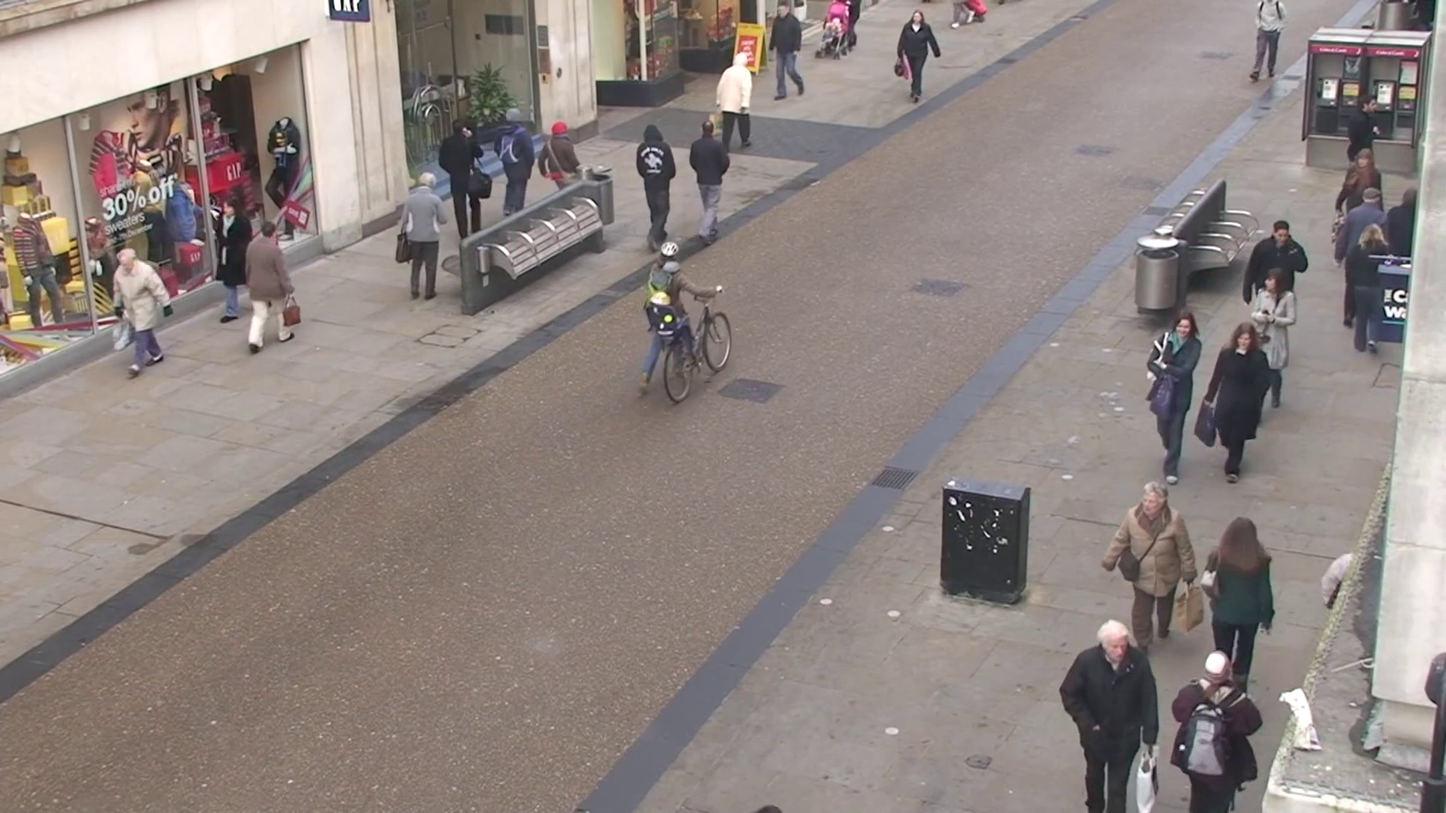person: (1060, 619, 1162, 812), (1168, 650, 1264, 812), (1102, 480, 1196, 645), (1203, 515, 1277, 688), (1206, 322, 1280, 482), (1146, 309, 1203, 483), (113, 240, 172, 376), (243, 218, 301, 354), (398, 168, 447, 301), (203, 197, 250, 332), (1244, 217, 1310, 313), (441, 119, 488, 237), (636, 122, 676, 253), (689, 117, 730, 241), (713, 38, 755, 153), (895, 8, 941, 102), (769, 2, 807, 102), (500, 118, 538, 213), (1249, 0, 1286, 85)
